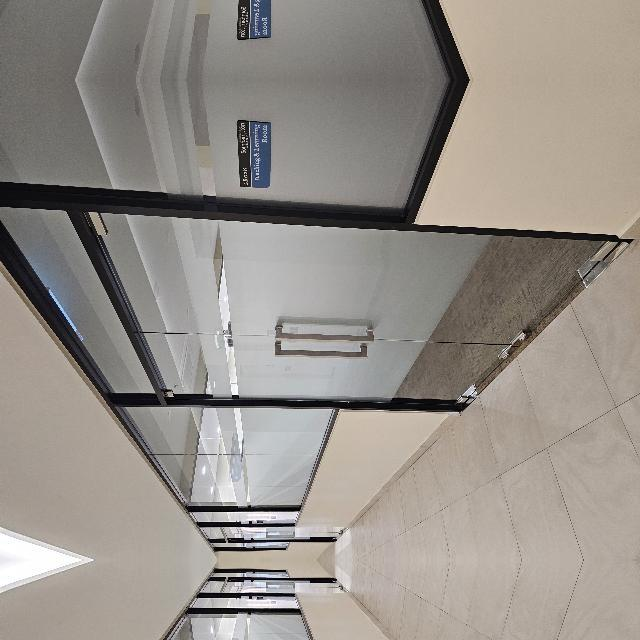door: (143, 127, 373, 640), (143, 411, 373, 640), (143, 0, 373, 33)
